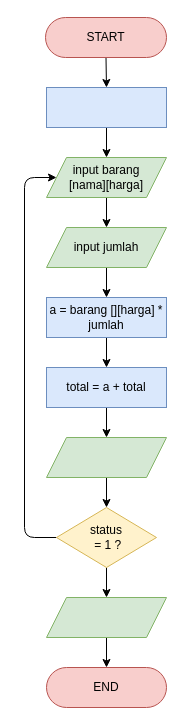
This 184x725 diagram has some shape labels left out. Each missing label, with the centre of its shape:
"barang[][], jumlah, total, a, status" goes at (x=106, y=107).
"input status" goes at (x=106, y=457).
"print total" goes at (x=106, y=617).
